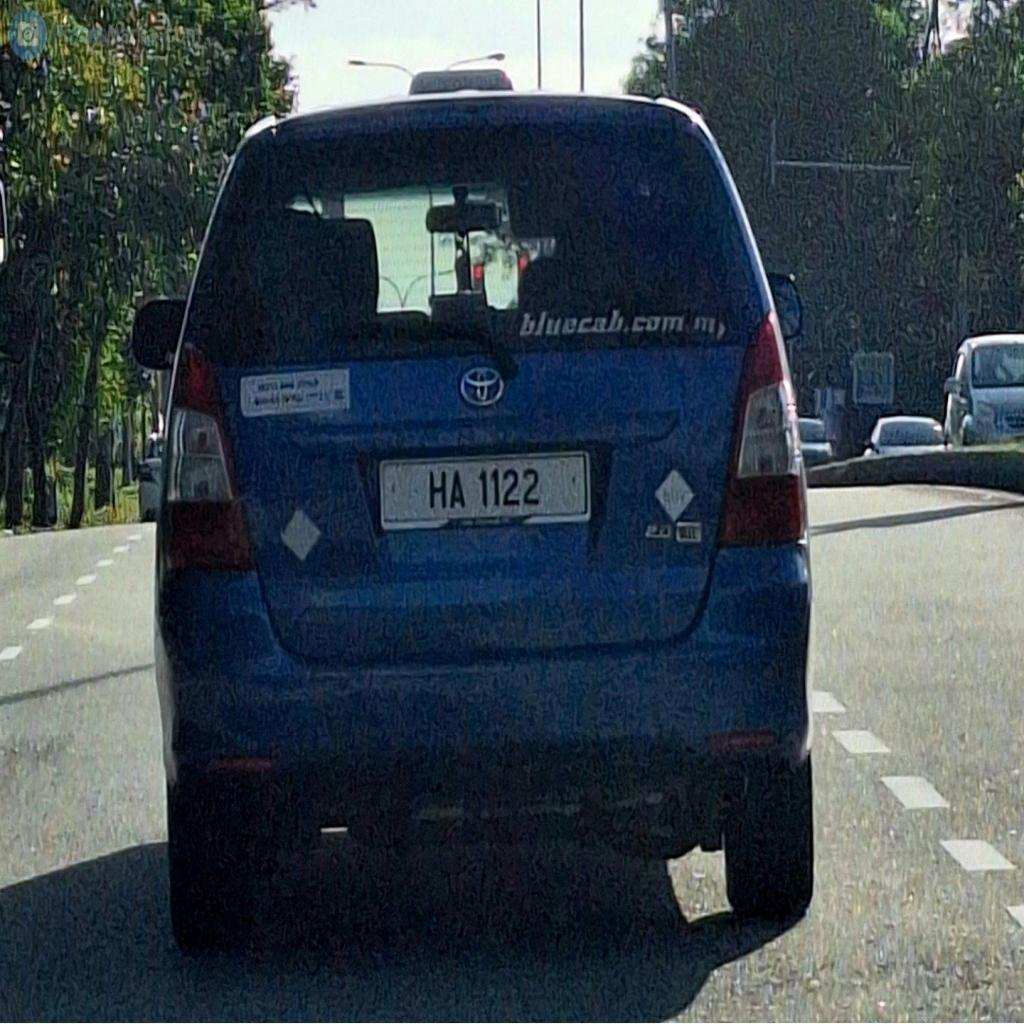car: (132, 91, 812, 945)
car plate: (380, 452, 589, 529)
